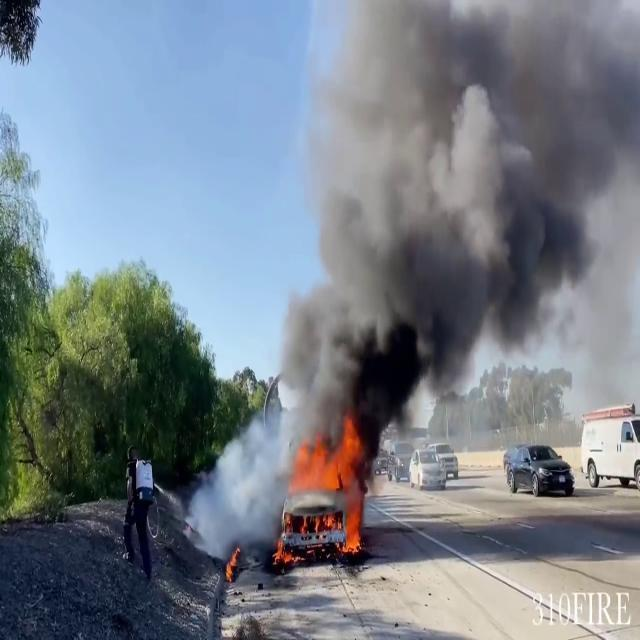Fire: (296, 413, 370, 551)
Smoke: (295, 0, 640, 442), (190, 402, 303, 568)
